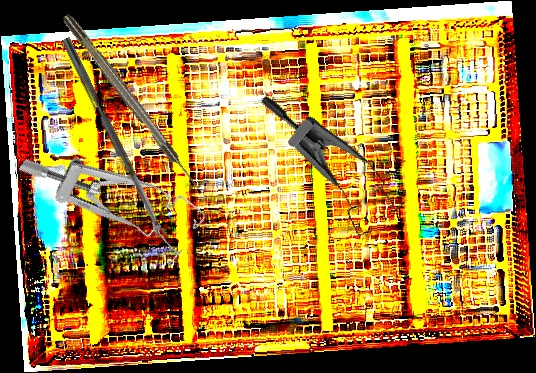Hook Surgical: (61, 11, 203, 194)
Speculum: (17, 106, 209, 280), (225, 92, 422, 249)
Surgical Spoon: (60, 36, 166, 240)
